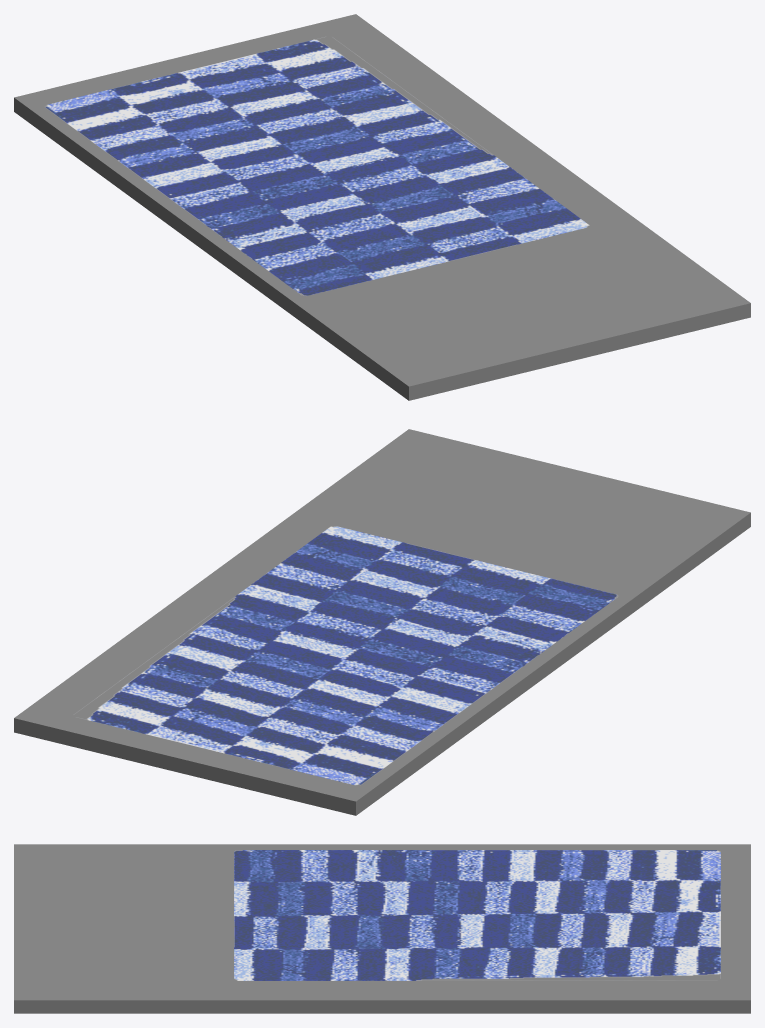
Rendered from Chão(Sala).glb.
3 renders of one model, top to bottom at view 1: azimuth 30°, elevation 25°; view 2: azimuth 150°, elevation 25°; view 3: azimuth 270°, elevation 25°, orthographic. The views are drawn at different scales.
Parts seen in each view (by area): view 1: Carpet, Floor2-col; view 2: Carpet, Floor2-col; view 3: Carpet, Floor2-col.
Part boxes in pixels (box(x1,y1,x2,y2)): Carpet: box(45, 38, 589, 295); Floor2-col: box(14, 14, 750, 400); Carpet: box(78, 526, 617, 785); Floor2-col: box(14, 429, 750, 815); Carpet: box(234, 850, 720, 980); Floor2-col: box(14, 844, 750, 1013).
Size of the model in its own units: 5 by 0.2048 by 10.
Materials: 2 (1 with a texture image).
